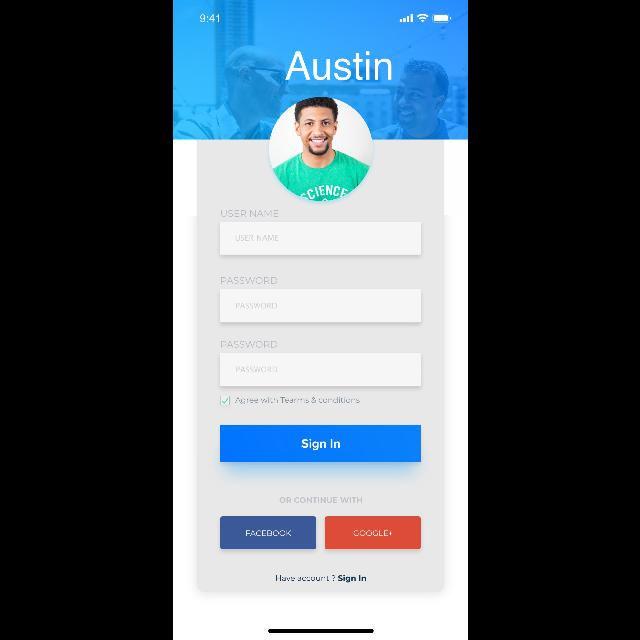checkbox: (220, 396, 228, 404)
image: (172, 0, 468, 140), (268, 97, 372, 201)
input: (220, 222, 420, 254), (220, 290, 420, 322), (220, 354, 420, 386)
text: (284, 51, 392, 80), (235, 398, 359, 404), (275, 575, 365, 583), (278, 497, 362, 503), (220, 210, 278, 218), (221, 340, 277, 348), (221, 278, 277, 284), (235, 235, 278, 241), (236, 303, 276, 309), (236, 366, 276, 372)
textbutton: (220, 424, 420, 462), (220, 516, 316, 550), (324, 516, 420, 550)
uppertaskbar: (200, 14, 450, 22)
